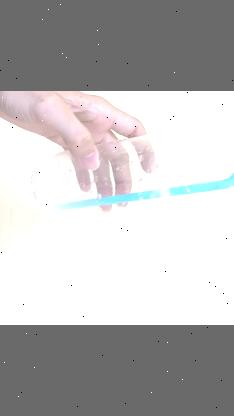Others: (30, 120, 234, 238)
